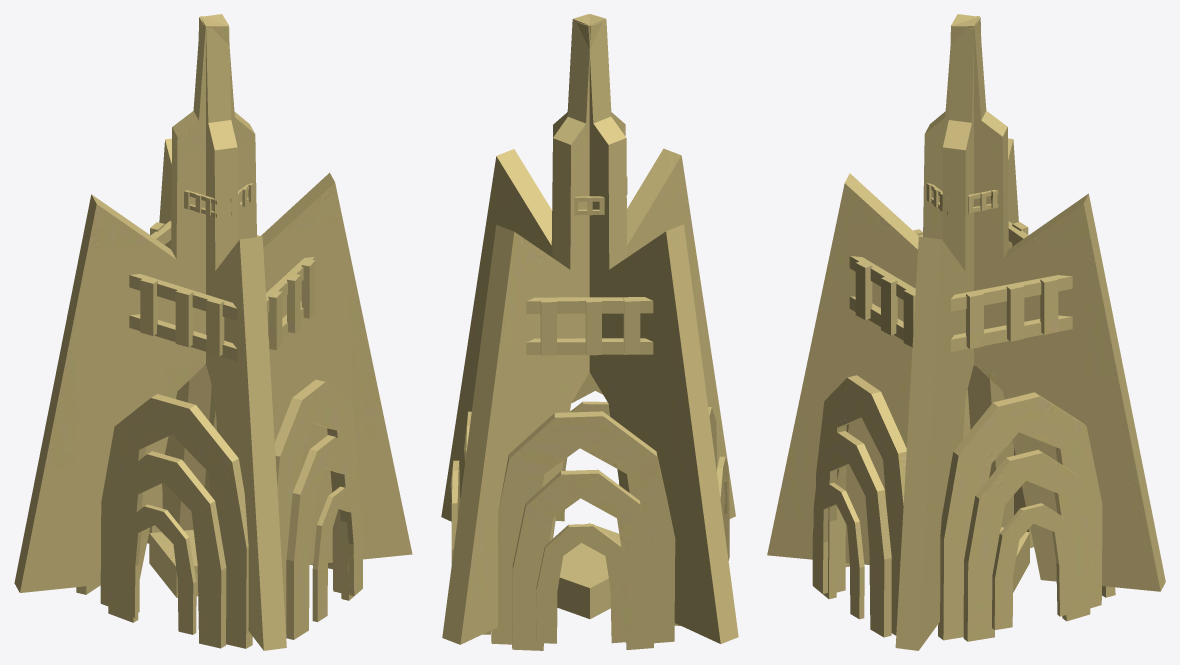
Rendered from monument_independance.glb.
The picture shows the model from 3 angles, left to right: view 1: azimuth 30°, elevation 25°; view 2: azimuth 150°, elevation 25°; view 3: azimuth 270°, elevation 25°; orthographic projection.
Parts seen in each view (by area): view 1: Monument_Independance; view 2: Monument_Independance; view 3: Monument_Independance.
Boxes of the visible parts, left/top/right/bottom form: Monument_Independance: left=14, top=14, right=412, bottom=650; Monument_Independance: left=441, top=14, right=738, bottom=650; Monument_Independance: left=767, top=14, right=1165, bottom=650.
Size of the model in its own units: 0.2193 by 0.35 by 0.2229.
1 material, 1 textured.
